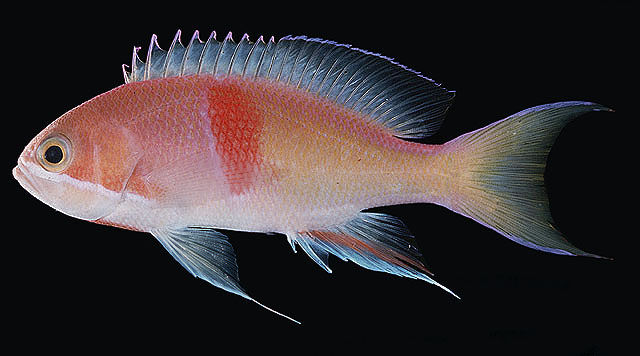fish: (12, 28, 614, 325)
